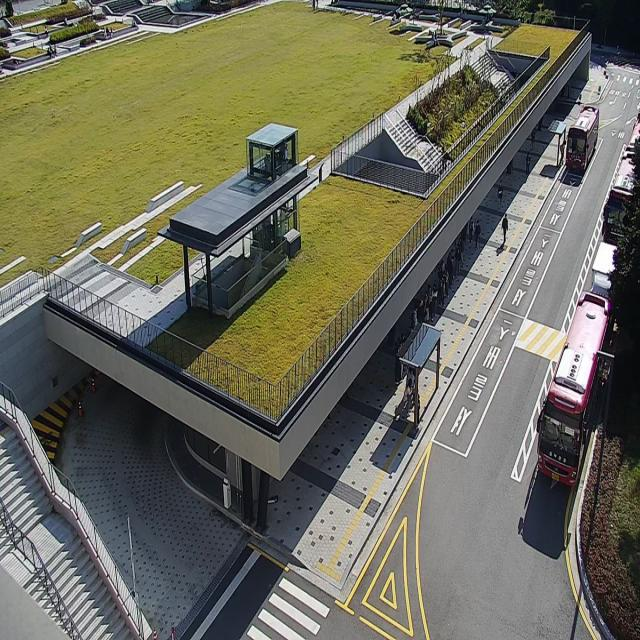queue: (415, 236, 463, 429)
